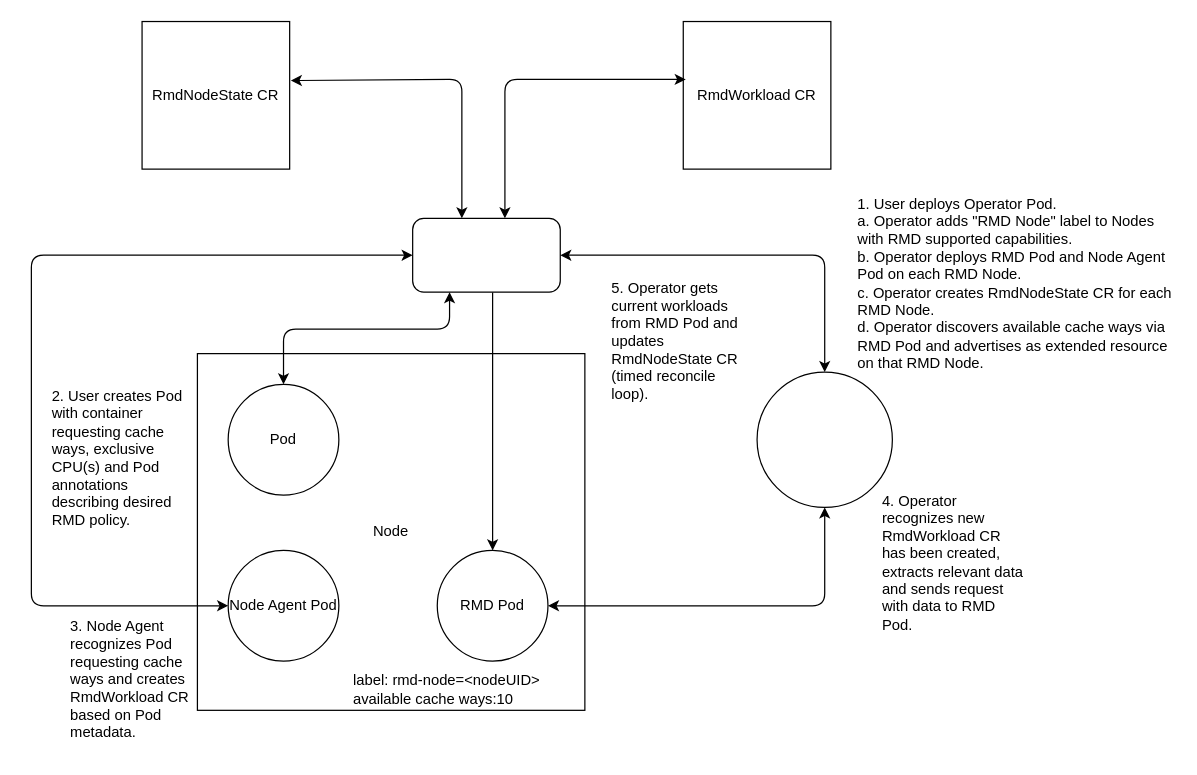
This 1197x775 diagram has some shape labels left out. The centre of each missing label's shape, as x and y in pixels:
K8s API: [485,254]
Operator Pod: [824,439]
